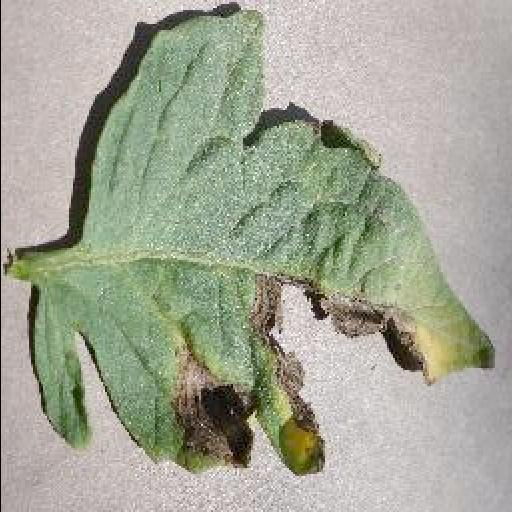disease_tomato: (30, 8, 498, 478)
